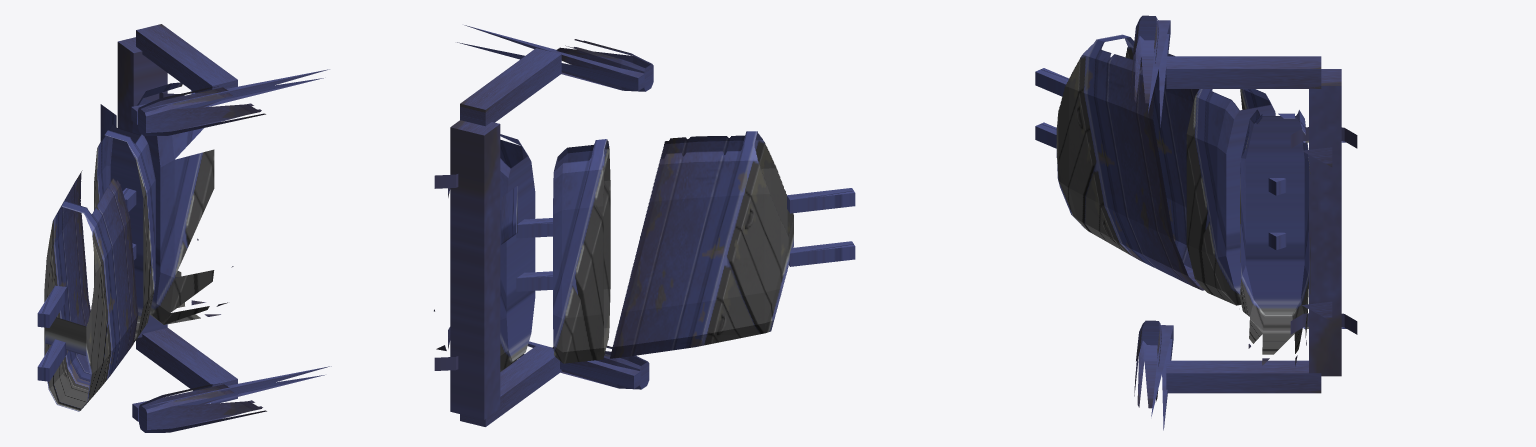
3 views of the same model, side by side, from view 1: azimuth 30°, elevation 25°; view 2: azimuth 150°, elevation 25°; view 3: azimuth 270°, elevation 25° (orthographic). The views are drawn at different scales.
Size of the model in its own units: 0.9307 by 0.7456 by 1.12.
